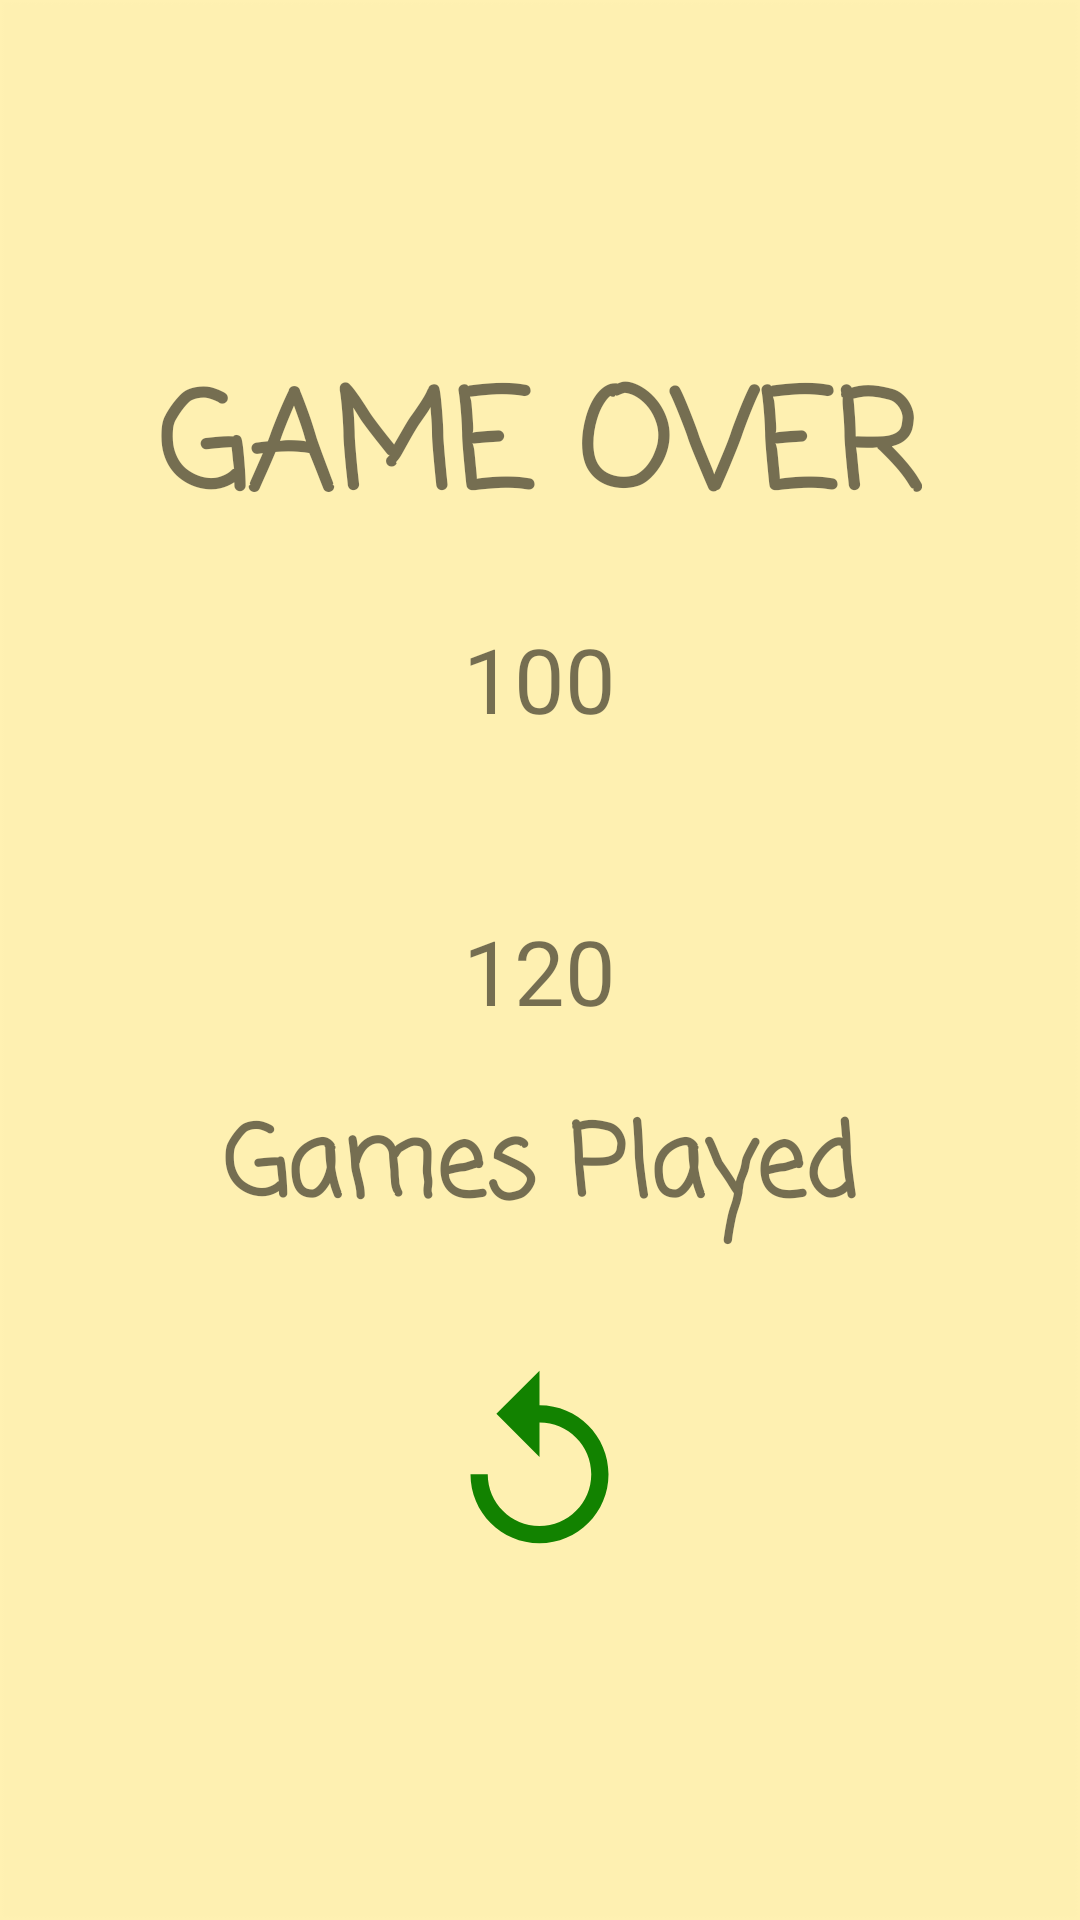

Icons on this 1080px×1920px Android screen, each with its box as {"left": x1, "top": y1, "right": x2, "bottom": y2}:
replay: {"left": 470, "top": 1371, "right": 609, "bottom": 1544}
